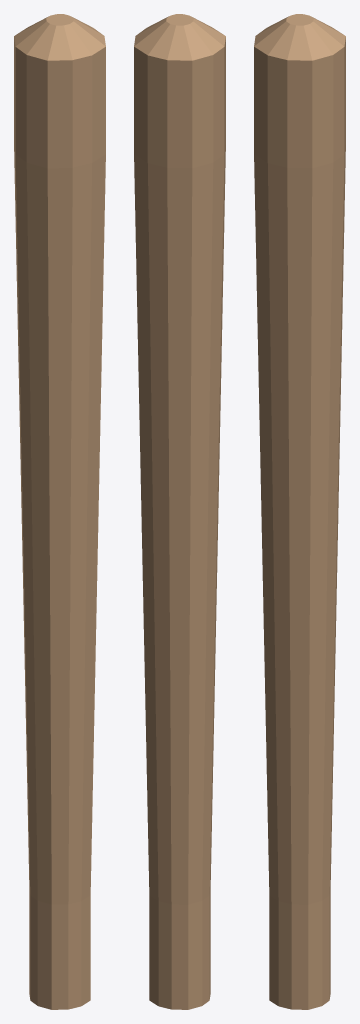
Rendered from Bat.fbx.
The picture shows the model from 3 angles, left to right: view 1: azimuth 30°, elevation 25°; view 2: azimuth 150°, elevation 25°; view 3: azimuth 330°, elevation 25°; orthographic projection.
Visible parts, largest first — view 1: Bat; view 2: Bat; view 3: Bat.
Boxes of the visible parts, x1,y1,x2,y2 form: Bat: (14,14,105,1009); Bat: (134,14,225,1009); Bat: (254,14,345,1009).
Bounding box in the file's own units: 8.32 × 99.86 × 8.32.
1 material, 1 textured.
